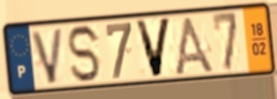7: (211, 10, 240, 75), (104, 21, 133, 81)
A: (171, 13, 217, 75)
S: (66, 22, 104, 85)
V: (133, 16, 174, 80), (29, 25, 66, 87)
